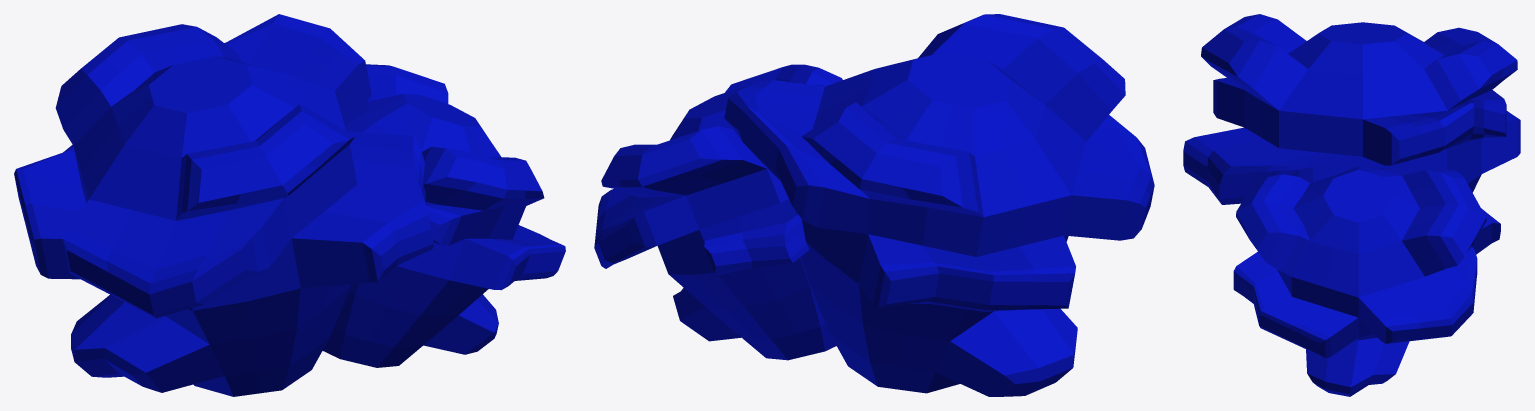
File: propCoral1B.fbx
The picture shows the model from 3 angles, left to right: view 1: azimuth 30°, elevation 25°; view 2: azimuth 150°, elevation 25°; view 3: azimuth 270°, elevation 25°; orthographic projection. The views are drawn at different scales.
Visible parts, largest first — view 1: Coral1B; view 2: Coral1B; view 3: Coral1B.
Boxes of the visible parts, left/top/right/bottom form: Coral1B: left=14, top=14, right=565, bottom=396; Coral1B: left=594, top=14, right=1154, bottom=396; Coral1B: left=1183, top=14, right=1520, bottom=396.
Size of the model in its own units: 219 by 135 by 155.
